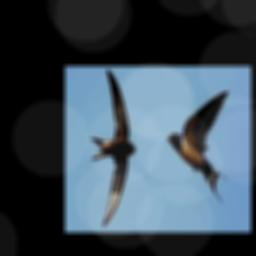Swallow: (91, 70, 137, 227), (167, 91, 228, 201)
